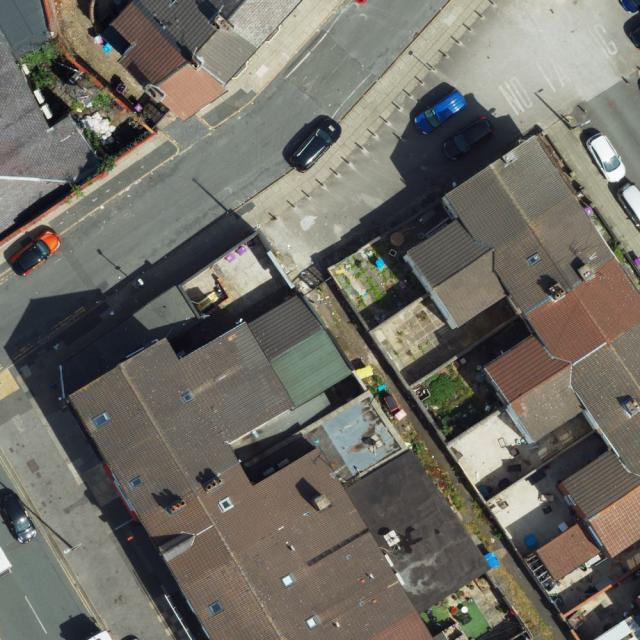roof: (67, 291, 436, 640), (407, 138, 640, 583), (110, 0, 303, 123), (0, 26, 108, 240)
skylight: (88, 409, 112, 429), (205, 596, 225, 618), (214, 495, 237, 514), (278, 569, 299, 589), (303, 610, 322, 632), (128, 471, 146, 489), (526, 252, 543, 269), (180, 389, 196, 404)
